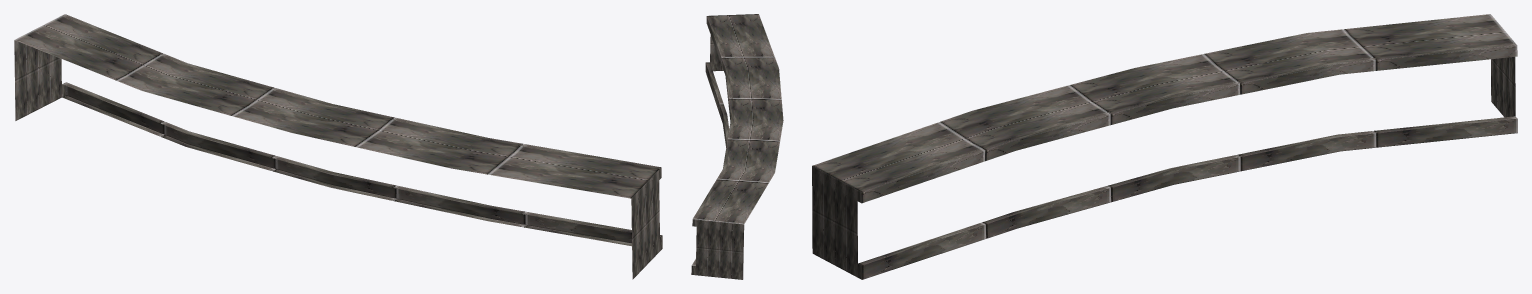
Rendered from CH09_SMAUG_PLAYSURFACE_LAIR22.fbx.
The picture shows the model from 3 angles, left to right: view 1: azimuth 30°, elevation 25°; view 2: azimuth 150°, elevation 25°; view 3: azimuth 270°, elevation 25°; orthographic projection. The views are drawn at different scales.
Visible parts, largest first — view 1: CH09_SMAUG_PLAYSURFACE_LAIR22; view 2: CH09_SMAUG_PLAYSURFACE_LAIR22; view 3: CH09_SMAUG_PLAYSURFACE_LAIR22.
Boxes of the visible parts, <box> form: CH09_SMAUG_PLAYSURFACE_LAIR22: <box>14,14,662,279</box>; CH09_SMAUG_PLAYSURFACE_LAIR22: <box>691,14,783,279</box>; CH09_SMAUG_PLAYSURFACE_LAIR22: <box>812,14,1517,279</box>.
Size of the model in its own units: 97250 by 22664 by 158626.
Materials: 1 (1 with a texture image).
